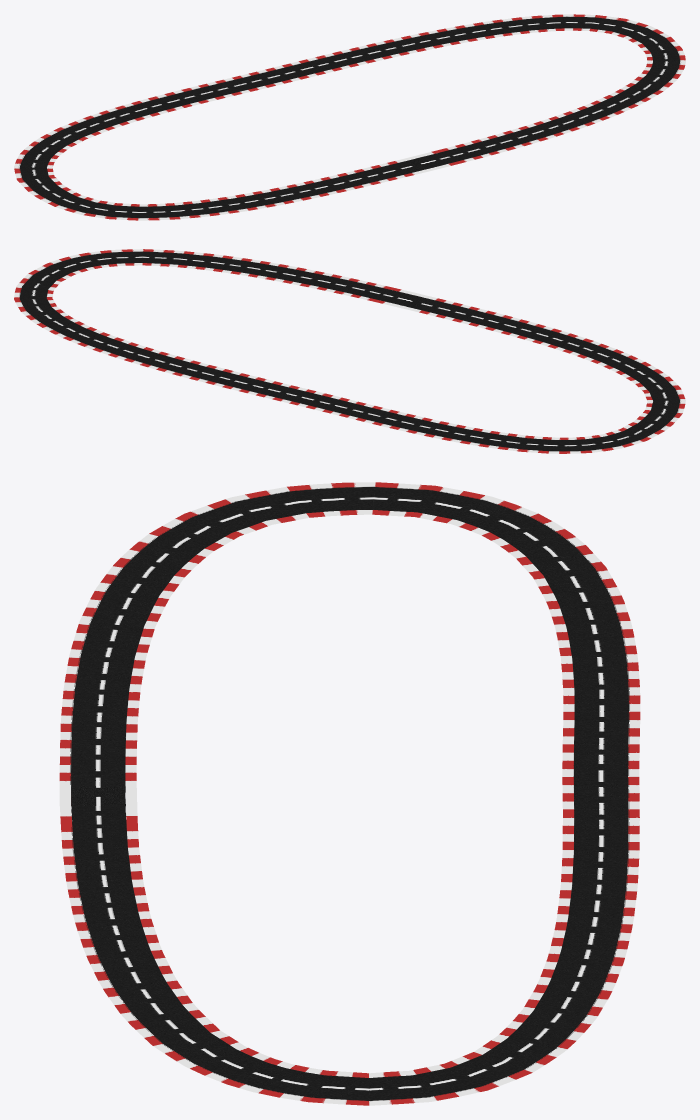
Rendered from CircuitosFacilBien.fbx.
3 renders of one model, top to bottom at view 1: azimuth 30°, elevation 25°; view 2: azimuth 150°, elevation 25°; view 3: azimuth 270°, elevation 25°, orthographic. The views are drawn at different scales.
Visible parts, largest first — view 1: Suelo.002, Extremos.001; view 2: Suelo.002, Extremos.001; view 3: Suelo.002, Extremos.001.
Part boxes in pixels (x1,y1,x2,y2): Suelo.002: [20, 16, 680, 218]; Extremos.001: [14, 14, 685, 220]; Suelo.002: [19, 251, 680, 451]; Extremos.001: [14, 249, 685, 453]; Suelo.002: [71, 487, 628, 1100]; Extremos.001: [59, 482, 640, 1105].
Bounding box in the file's own units: 25380 × 0.0017 × 9983.
